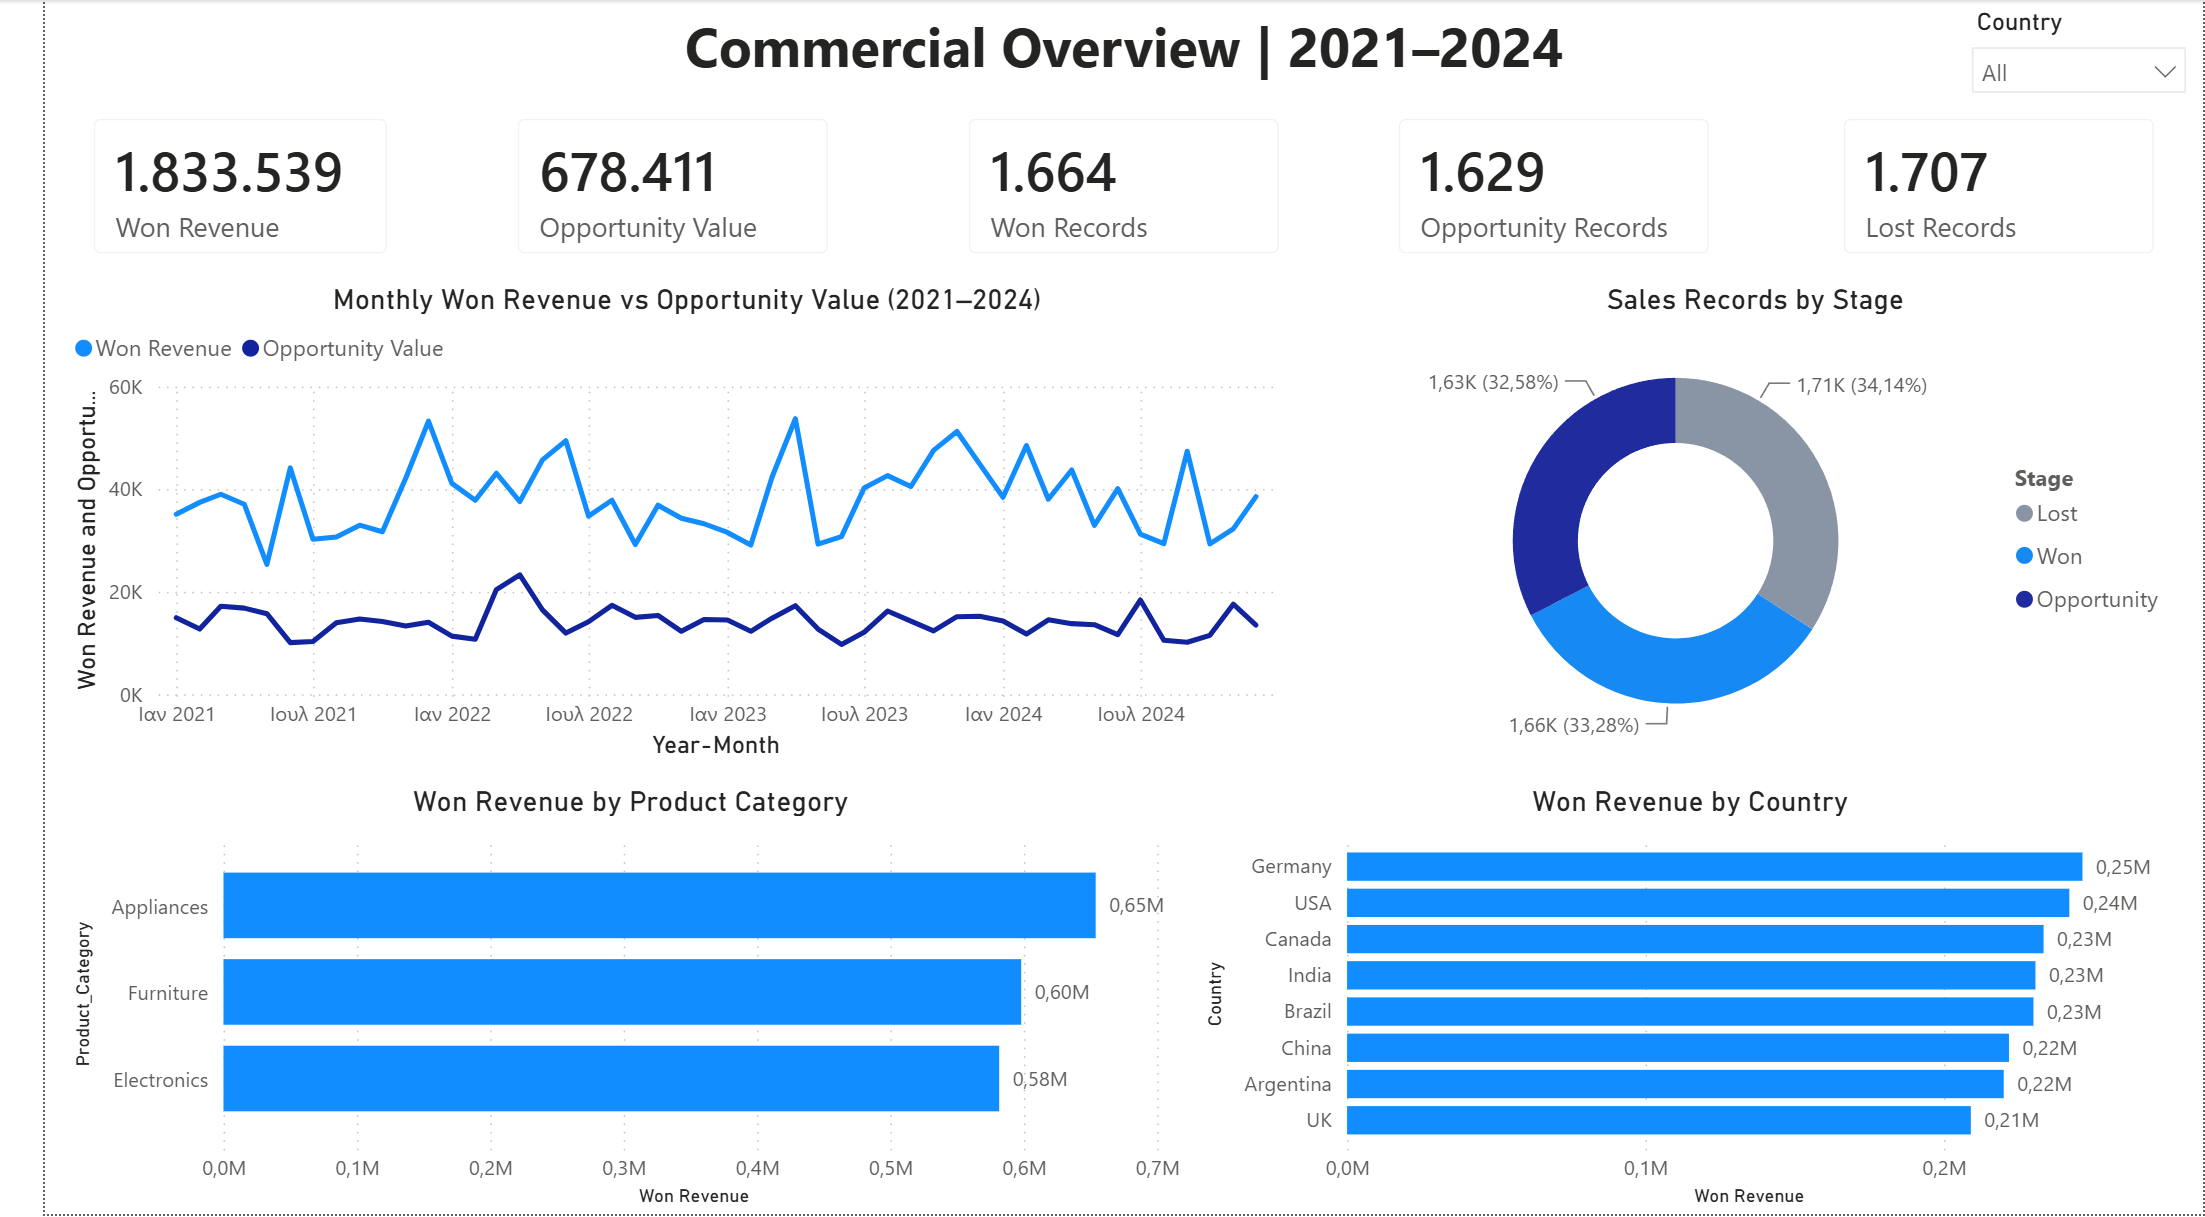

The dashboard page shown, as its layout file describes it:
{"tool":"powerbi","page":{"name":"Commercial Overview","canvas":[1280,720],"ordinal":1},"visuals":[{"type":"cardVisual","fields":{"Data":["Raw sales datasets.Won Revenue"]},"box":[11.8,53.1,208.8,114.4],"z":0},{"type":"cardVisual","fields":{"Data":["Raw sales datasets.Opportunity Value"]},"box":[263.1,53.1,218.2,114.4],"z":1000},{"type":"cardVisual","fields":{"Data":["Raw sales datasets.Won Records"]},"box":[530.9,53.1,218.2,114.4],"z":2000},{"type":"cardVisual","fields":{"Data":["Raw sales datasets.Opportunity Records"]},"box":[785.7,53.1,218.2,114.4],"z":3000},{"type":"cardVisual","fields":{"Data":["Raw sales datasets.Lost Records"]},"box":[1050,53.1,218.2,114.4],"z":4000},{"type":"lineChart","title":"Monthly Won Revenue vs Opportunity Value (2021–2024)","fields":{"Category":["Raw sales datasets.Year-Month"],"Y":["Raw sales datasets.Won Revenue","Raw sales datasets.Opportunity Value"]},"box":[11.8,167.5,737.3,287.9],"z":5000},{"type":"donutChart","title":"Sales Records by Stage","fields":{"Category":["Raw sales datasets.Stage"],"Y":["CountNonNull(Raw sales datasets.Order_ID)"]},"box":[760.9,167.5,507.3,287.9],"z":6000},{"type":"clusteredBarChart","title":"Won Revenue by Product Category","fields":{"Category":["Raw sales datasets.Product_Category"],"Y":["Raw sales datasets.Won Revenue"]},"box":[11.8,464.8,671.3,254.8],"z":7000},{"type":"clusteredBarChart","title":"Won Revenue by Country","fields":{"Category":["Raw sales datasets.Country"],"Y":["Raw sales datasets.Won Revenue"]},"box":[683.1,464.8,585.1,254.8],"z":8000},{"type":"textbox","box":[0,0,1280,53.1],"z":9000},{"type":"slicer","fields":{"Values":["Raw sales datasets.Country"]},"box":[1132.5,0,147.5,64.9],"z":10000}]}

Visuals, with their boxes in screenshot pixels (x1, y1, x2, y2), scaled from the page's 1280x720 canvas onto the 2205x1217 screenshot:
cardVisual - Raw sales datasets.Won Revenue: [20,90,380,283]
cardVisual - Raw sales datasets.Opportunity Value: [453,90,829,283]
cardVisual - Raw sales datasets.Won Records: [915,90,1290,283]
cardVisual - Raw sales datasets.Opportunity Records: [1353,90,1729,283]
cardVisual - Raw sales datasets.Lost Records: [1809,90,2185,283]
"Monthly Won Revenue vs Opportunity Value (2021–2024)" lineChart: [20,283,1290,770]
"Sales Records by Stage" donutChart: [1311,283,2185,770]
"Won Revenue by Product Category" clusteredBarChart: [20,786,1177,1216]
"Won Revenue by Country" clusteredBarChart: [1177,786,2185,1216]
textbox: [0,0,2204,90]
slicer - Raw sales datasets.Country: [1951,0,2204,110]
